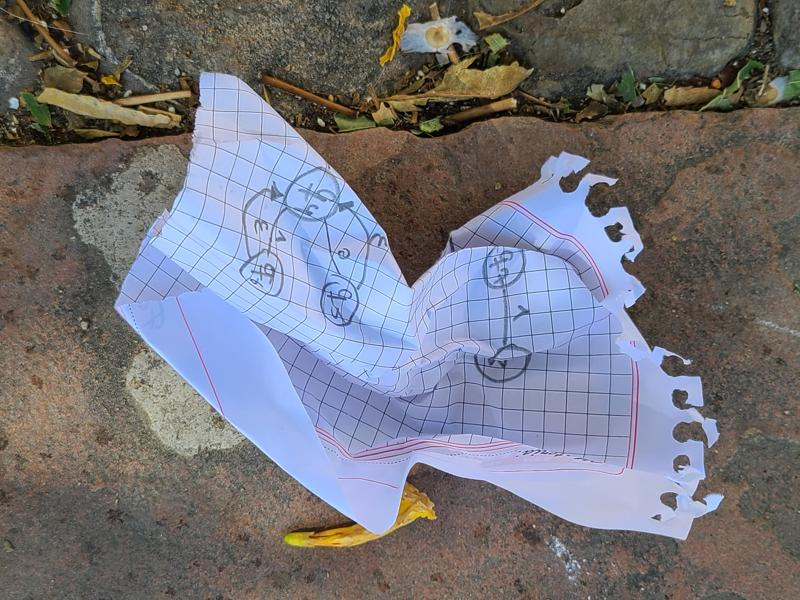papel: (114, 73, 723, 542)
